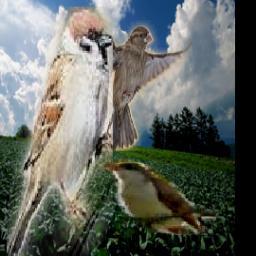Cuckoo: (97, 153, 216, 235)
Sparrow: (7, 8, 113, 256), (77, 13, 192, 152)
